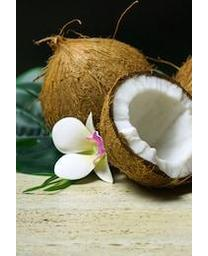coconut: (40, 38, 158, 147), (100, 68, 191, 190)
